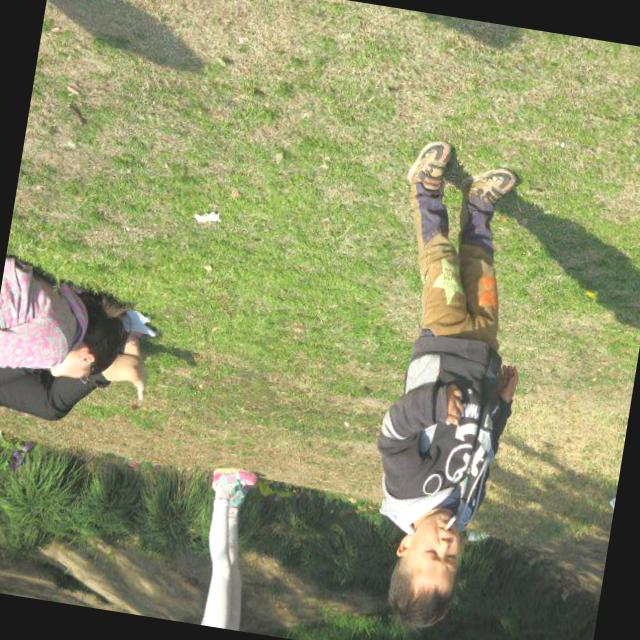smoke: (438, 501, 466, 538)
